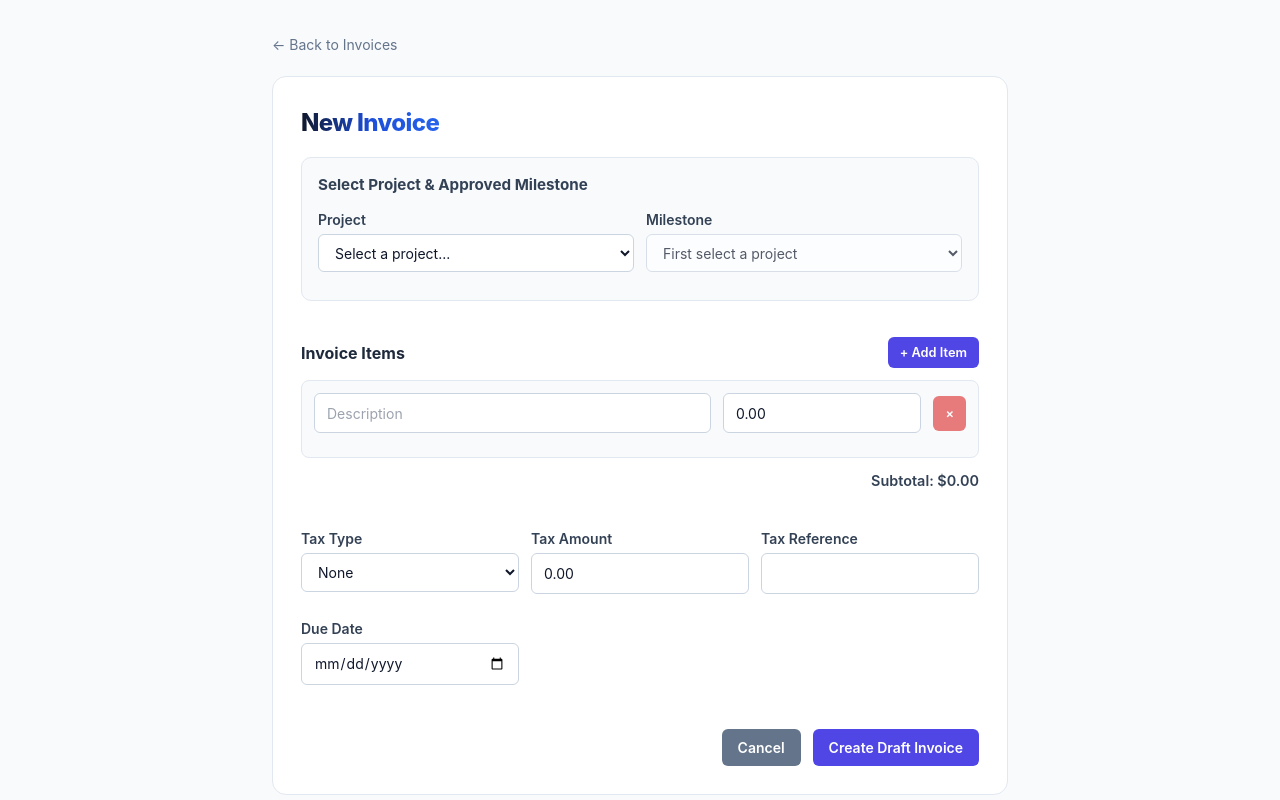
it: Invoice Creation with Project & Milestone Picker › shows error if submitted without selecting a milestone
Step 1. Type "Some work" into the field with placeholder "Description" → (512, 413), box [314,393,711,433]
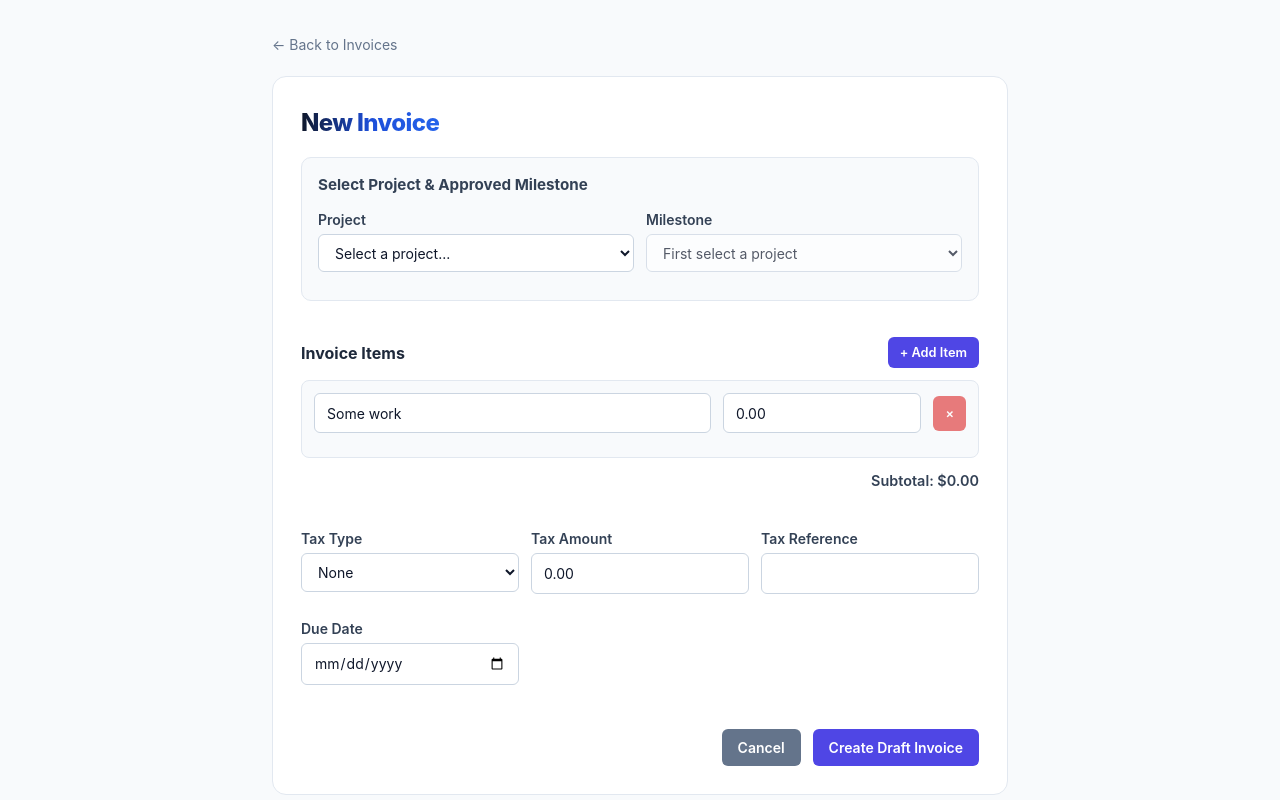
Step 2. Click the button "Create Draft Invoice" → click(896, 748), box [813,729,979,766]
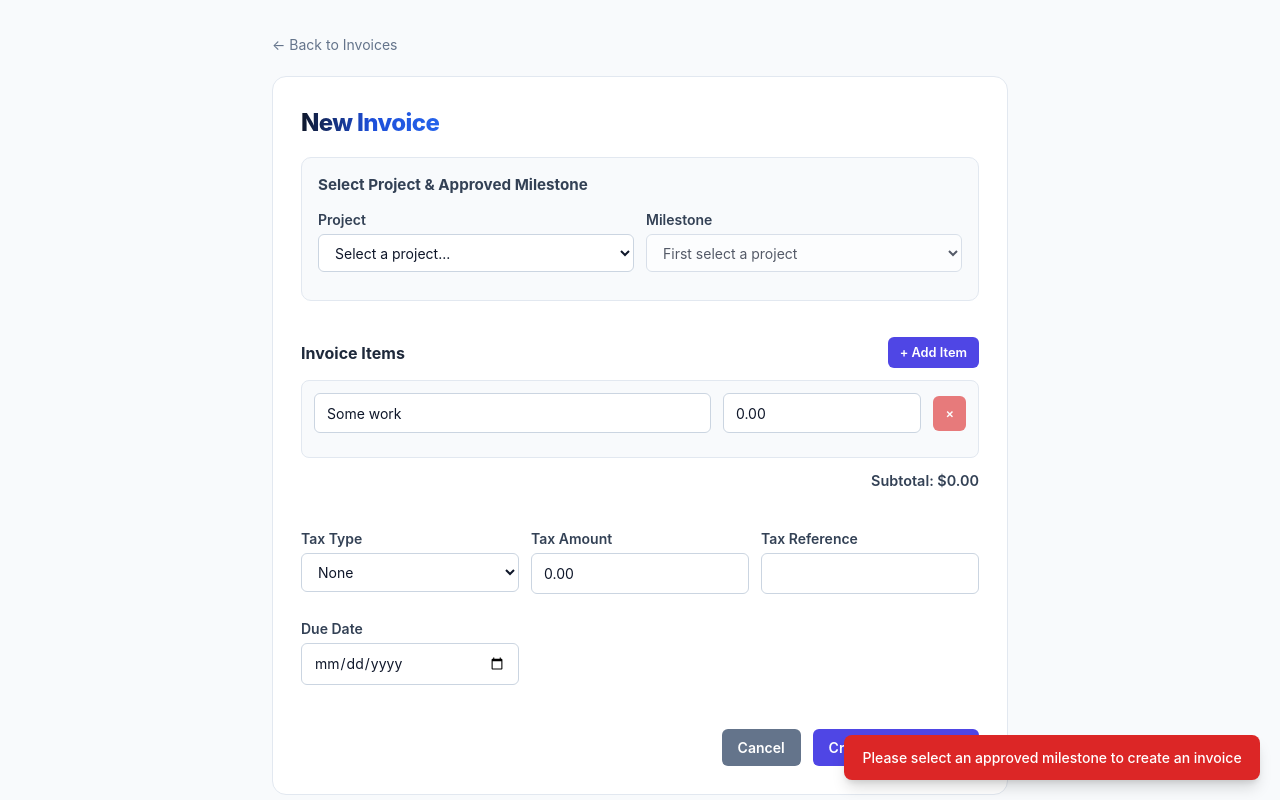
Expected: the text "Please select an approved milestone to create an invoice" is shown, [844,735,1260,780]
